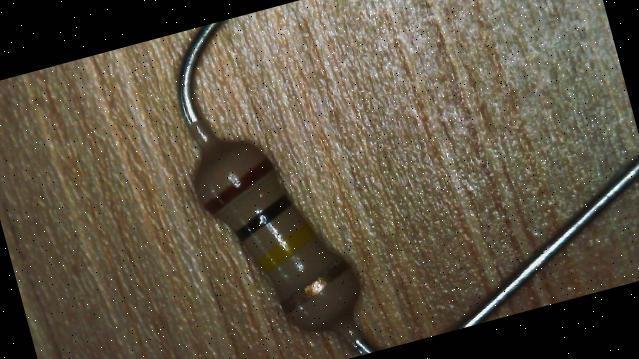black: (226, 194, 296, 242)
brown: (194, 158, 280, 216)
gold: (273, 259, 355, 314)
resistor: (172, 113, 415, 359)
yellow: (248, 222, 318, 274)
